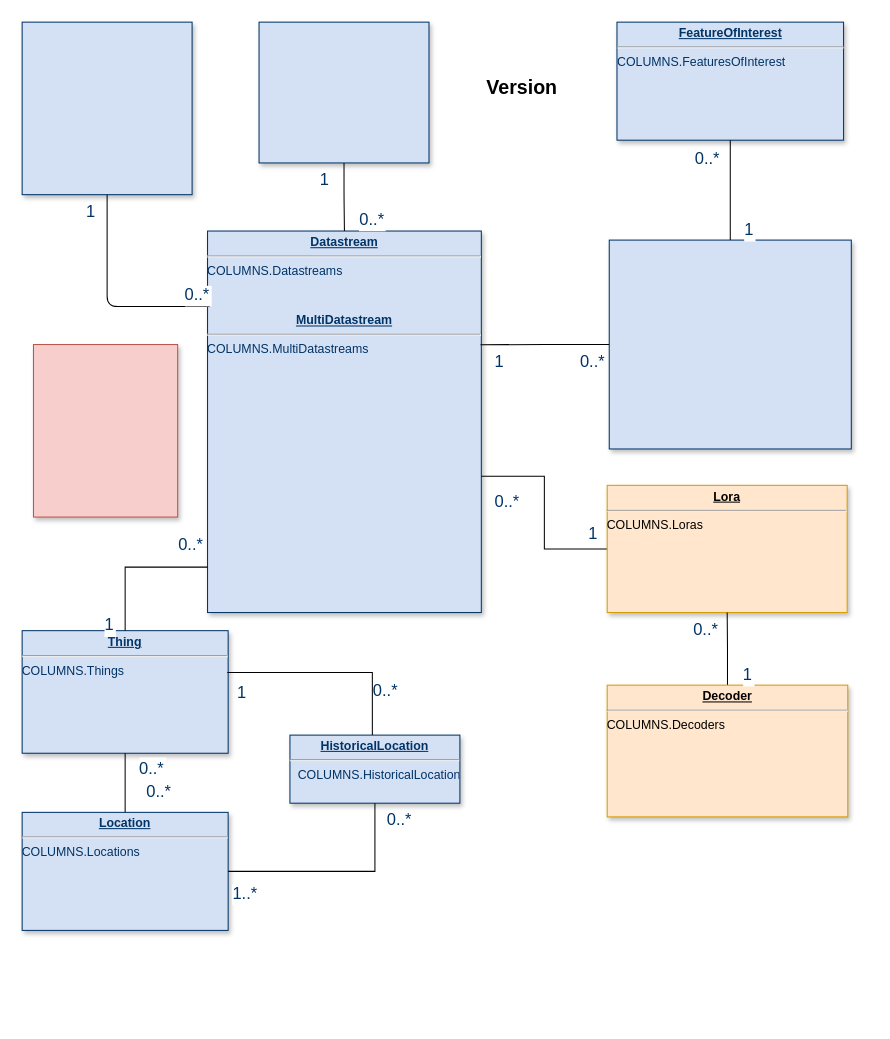
This 890x1039 diagram has some shape labels left out. Each missing label, with the centre of its shape:
Logs COLUMNS.Logs: pixel 106 431
Observation COLUMNS.Observations: pixel 730 345
ObservedProperty COLUMNS.ObservedProperties: pixel 344 93
Sensor COLUMNS.Sensors: pixel 107 109
